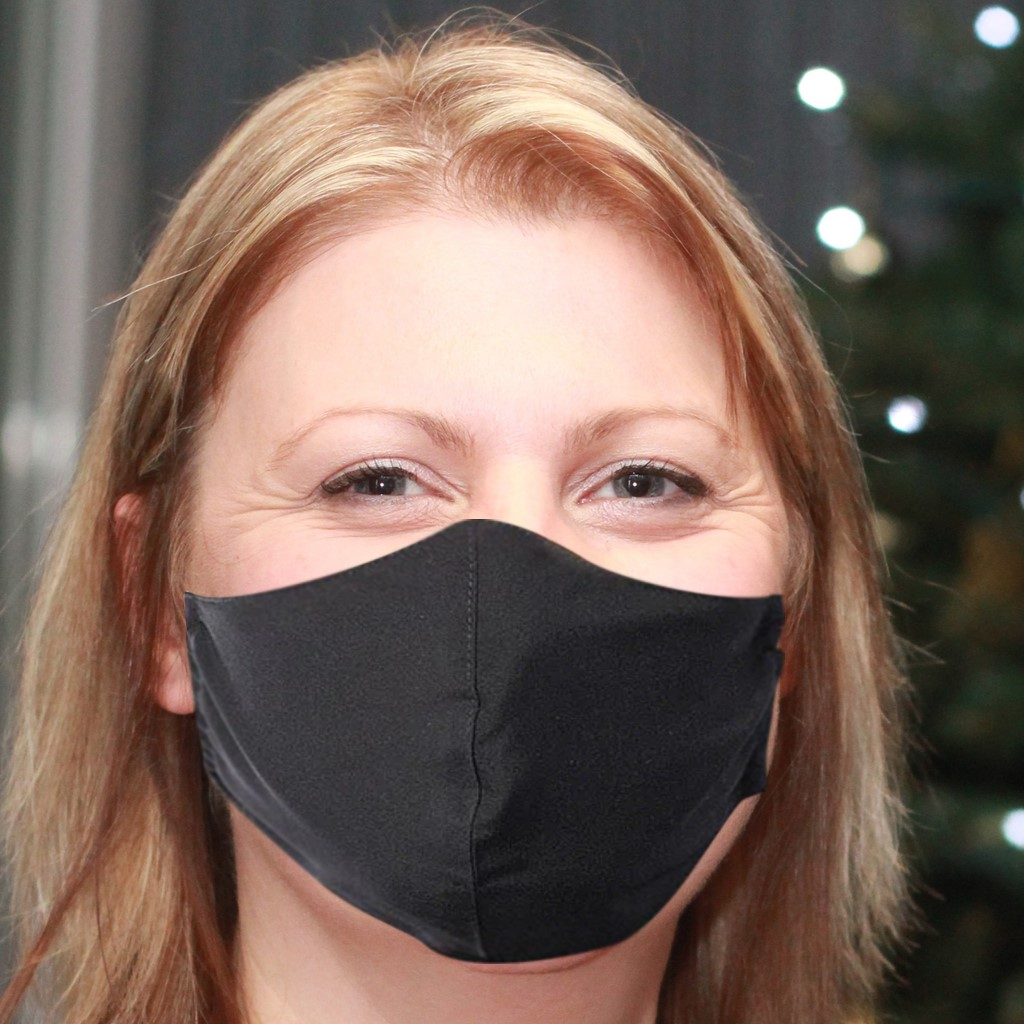con_mascara: (175, 182, 781, 985)
